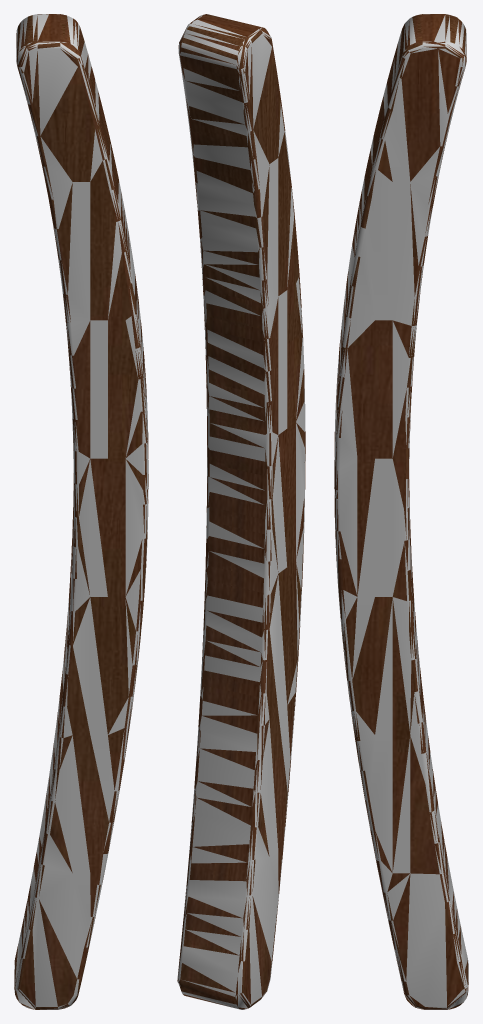
Rendered from botright_foot.obj.
The picture shows the model from 3 angles, left to right: view 1: azimuth 90°, elevation 25°; view 2: azimuth 150°, elevation 25°; view 3: azimuth 270°, elevation 25°; orthographic projection.
Parts seen in each view (by area): view 1: botright_foot_mesh2.002_mesh2-geometry; view 2: botright_foot_mesh2.002_mesh2-geometry; view 3: botright_foot_mesh2.002_mesh2-geometry.
Part boxes in pixels (box(x1,y1,x2,y2)): botright_foot_mesh2.002_mesh2-geometry: box(14, 14, 148, 1009); botright_foot_mesh2.002_mesh2-geometry: box(177, 14, 305, 1009); botright_foot_mesh2.002_mesh2-geometry: box(334, 14, 468, 1009).
Bounding box in the file's own units: 0.036 × 0.5143 × 0.0645.
